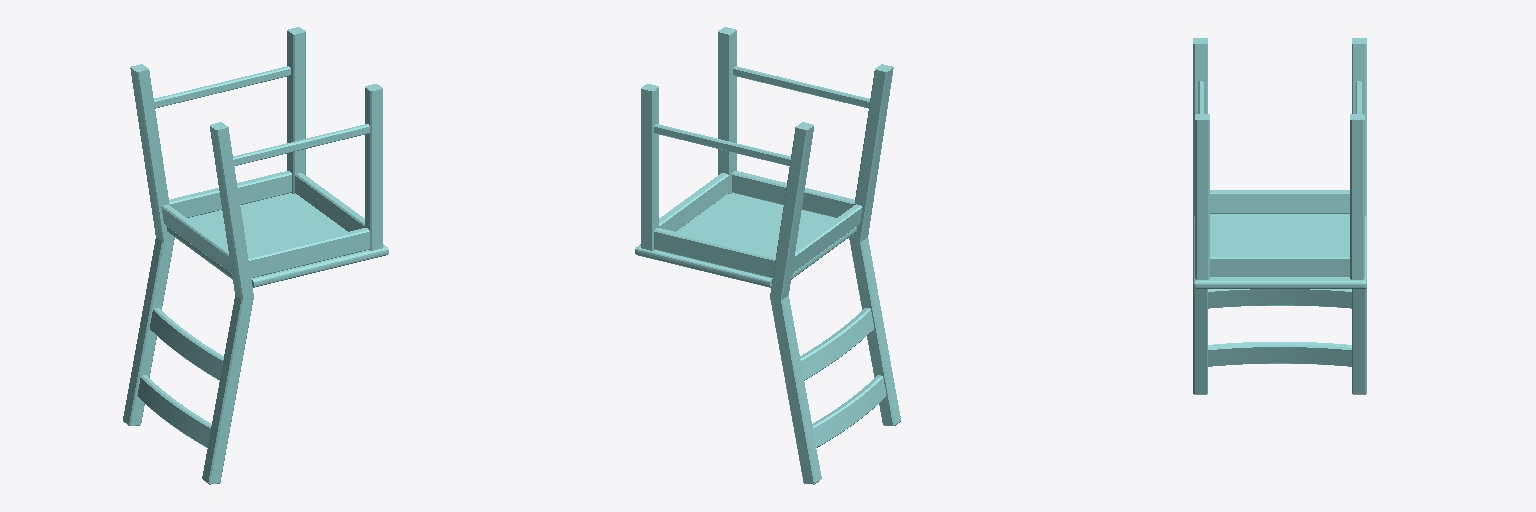
Rendered from Chair.obj.
3 renders of one model, left to right at view 1: azimuth 30°, elevation 25°; view 2: azimuth 150°, elevation 25°; view 3: azimuth 270°, elevation 25°, orthographic.
Parts seen in each view (by area): view 1: Legs, Cover; view 2: Legs, Cover; view 3: Legs, Cover.
Part boxes in pixels (bbox=[...]): Legs: bbox=[123, 27, 382, 484]; Cover: bbox=[167, 193, 388, 287]; Legs: bbox=[641, 27, 900, 484]; Cover: bbox=[635, 193, 856, 287]; Legs: bbox=[1193, 38, 1366, 394]; Cover: bbox=[1193, 214, 1366, 288].
Size of the model in its own units: 11.45 by 21.45 by 9.52.